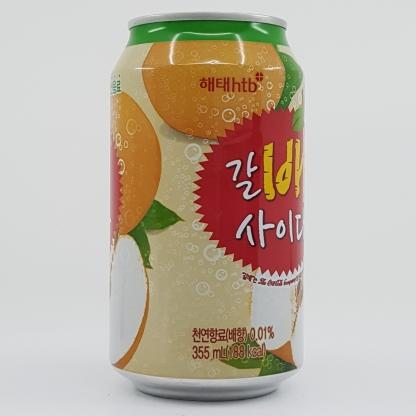-------355ML: (108, 11, 306, 401)
